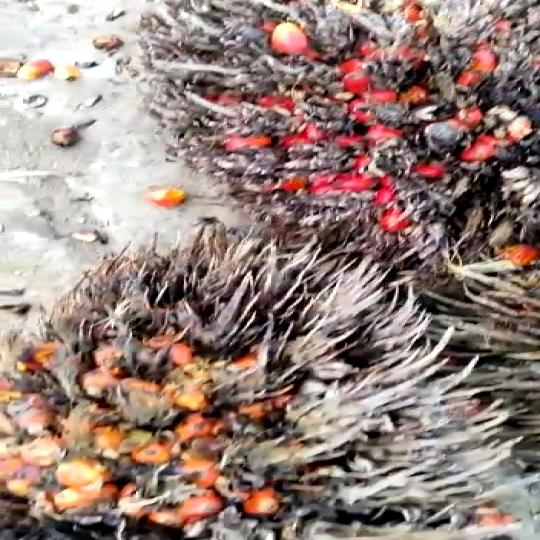terlalu masak: (0, 247, 489, 540), (127, 5, 540, 263)
